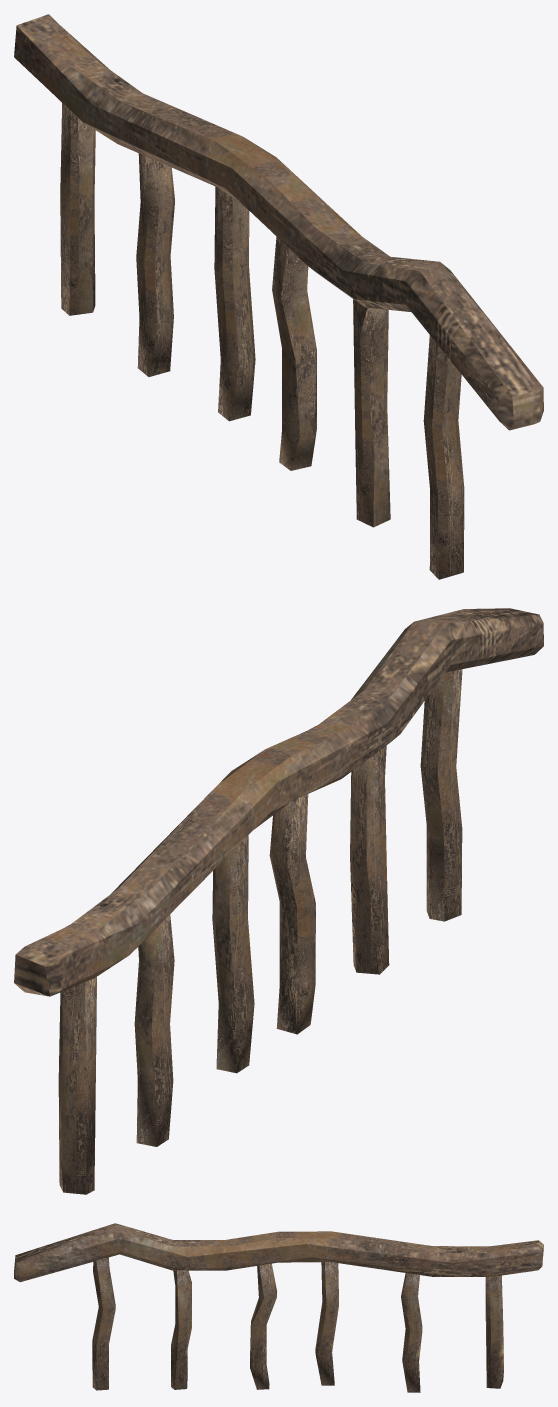
Rendered from horse_fence 1.fbx.
3 views of the same model, one above another, from view 1: azimuth 30°, elevation 25°; view 2: azimuth 150°, elevation 25°; view 3: azimuth 270°, elevation 25° (orthographic). The views are drawn at different scales.
Parts seen in each view (by area): view 1: Fence_model__1; view 2: Fence_model__1; view 3: Fence_model__1.
Boxes of the visible parts, x1=… form: Fence_model__1: x1=14, y1=14, x2=543, y2=579; Fence_model__1: x1=14, y1=608, x2=543, y2=1194; Fence_model__1: x1=14, y1=1223, x2=543, y2=1392.
Size of the model in its own units: 1.58 by 8.7 by 25.37.
